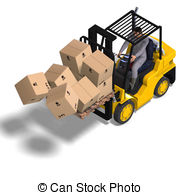pallet: (12, 72, 82, 111), (82, 54, 113, 79), (61, 38, 85, 66), (83, 80, 112, 101)
